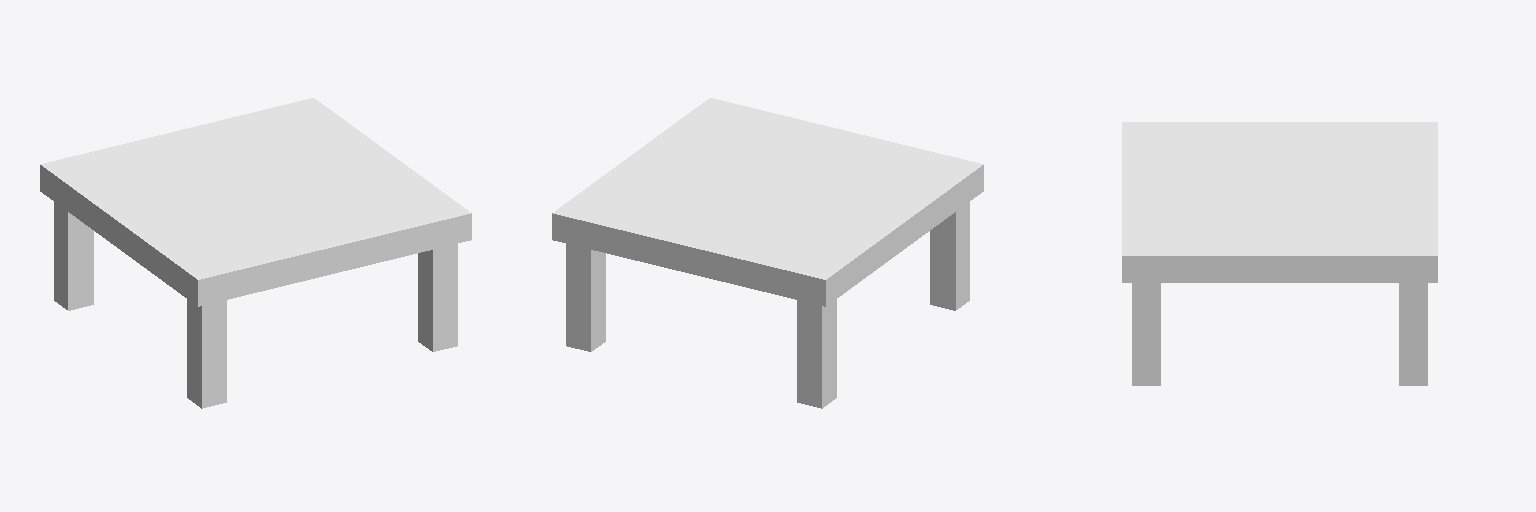
Rendered from parts-4-table.obj.
The picture shows the model from 3 angles: view 1: azimuth 30°, elevation 25°; view 2: azimuth 150°, elevation 25°; view 3: azimuth 270°, elevation 25°; orthographic projection.
Visible parts, largest first — view 1: table; view 2: table; view 3: table.
Boxes of the visible parts, <box> form: table: <box>40,98,471,408</box>; table: <box>552,98,983,408</box>; table: <box>1122,122,1437,385</box>.
Bounding box in the file's own units: 3.2 × 1.5 × 3.2.